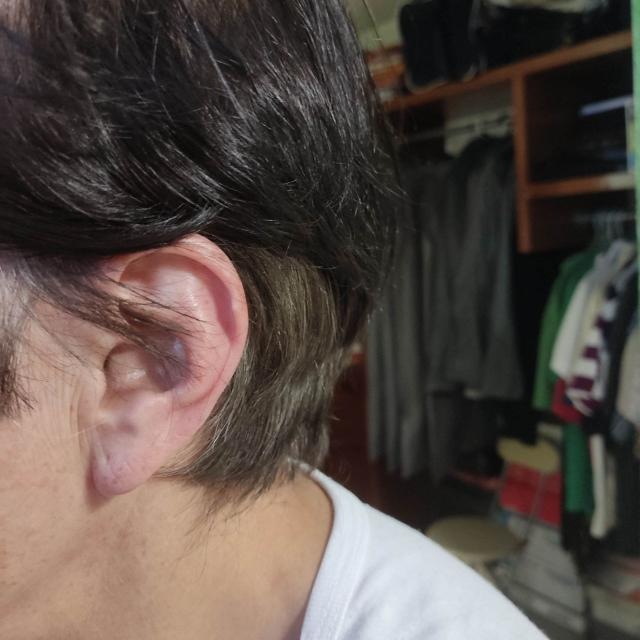ear: (92, 238, 246, 496)
